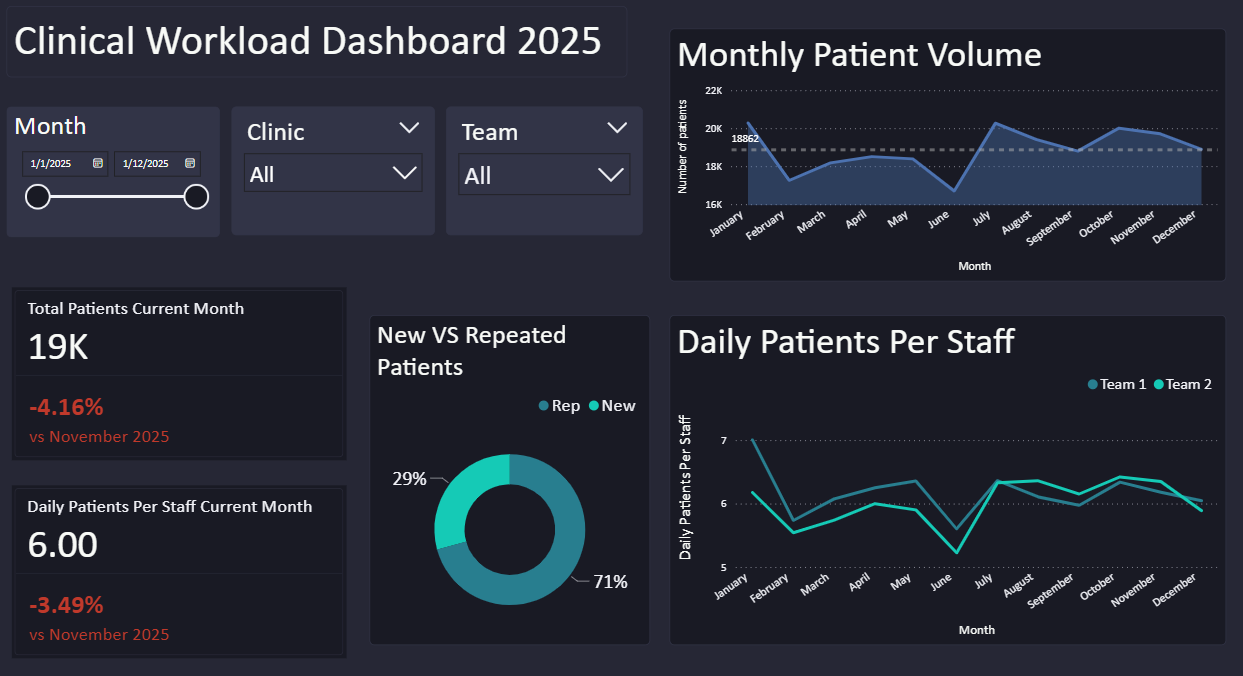

The page's visual inventory and layout, read from the dashboard file:
{"tool":"powerbi","page":{"name":"Page 1","canvas":[1280,720],"ordinal":0},"visuals":[{"type":"lineChart","title":"Monthly Patient Volume","fields":{"Category":["manpower.month.Variation.Date Hierarchy.Month"],"Y":["Sum(workload.patient_count)"]},"box":[686.7,38.3,561.7,255],"z":0},{"type":"lineChart","title":"Daily Patients Per Staff","fields":{"Category":["workload.month.Variation.Date Hierarchy.Month","workload.month.Variation.Date Hierarchy.Day"],"Y":["workload.Daily Patients Per Staff By Month"],"Series":["workload.team"]},"box":[686.7,326.7,561.7,333.3],"z":1000},{"type":"slicer","title":"Month","fields":{"Values":["workload.month"]},"box":[16.7,116.7,215,131.7],"z":2000},{"type":"cardVisual","fields":{"Data":["workload.Total Patients Current Month"]},"box":[16.7,293.3,348.3,185],"z":3000},{"type":"slicer","fields":{"Values":["workload.clinic"]},"box":[243.3,116.7,205,130],"z":4000},{"type":"slicer","fields":{"Values":["workload.team"]},"box":[460,116.7,198.3,130],"z":5000},{"type":"textbox","box":[16.7,15,626.7,71.7],"z":6000},{"type":"cardVisual","fields":{"Data":["workload.Daily Patients Per Staff Current Month"]},"box":[16.7,493.3,348.3,185],"z":7000},{"type":"donutChart","title":"New VS Repeated Patients","fields":{"Category":["workload.patient_type"],"Y":["Sum(workload.patient_count)"]},"box":[383.3,326.7,283.3,333.3],"z":8000}]}

Visuals, with their boxes on the page's 1280x720 design canvas (x1, y1, x2, y2). These are canvas units, not pixel positions in the 1243x676 screenshot, which may show the page scaled, cropped or inside an application window:
"Monthly Patient Volume" lineChart: bbox=[687, 38, 1248, 293]
"Daily Patients Per Staff" lineChart: bbox=[687, 327, 1248, 660]
"Month" slicer: bbox=[17, 117, 232, 248]
cardVisual - workload.Total Patients Current Month: bbox=[17, 293, 365, 478]
slicer - workload.clinic: bbox=[243, 117, 448, 247]
slicer - workload.team: bbox=[460, 117, 658, 247]
textbox: bbox=[17, 15, 643, 87]
cardVisual - workload.Daily Patients Per Staff Current Month: bbox=[17, 493, 365, 678]
"New VS Repeated Patients" donutChart: bbox=[383, 327, 667, 660]
